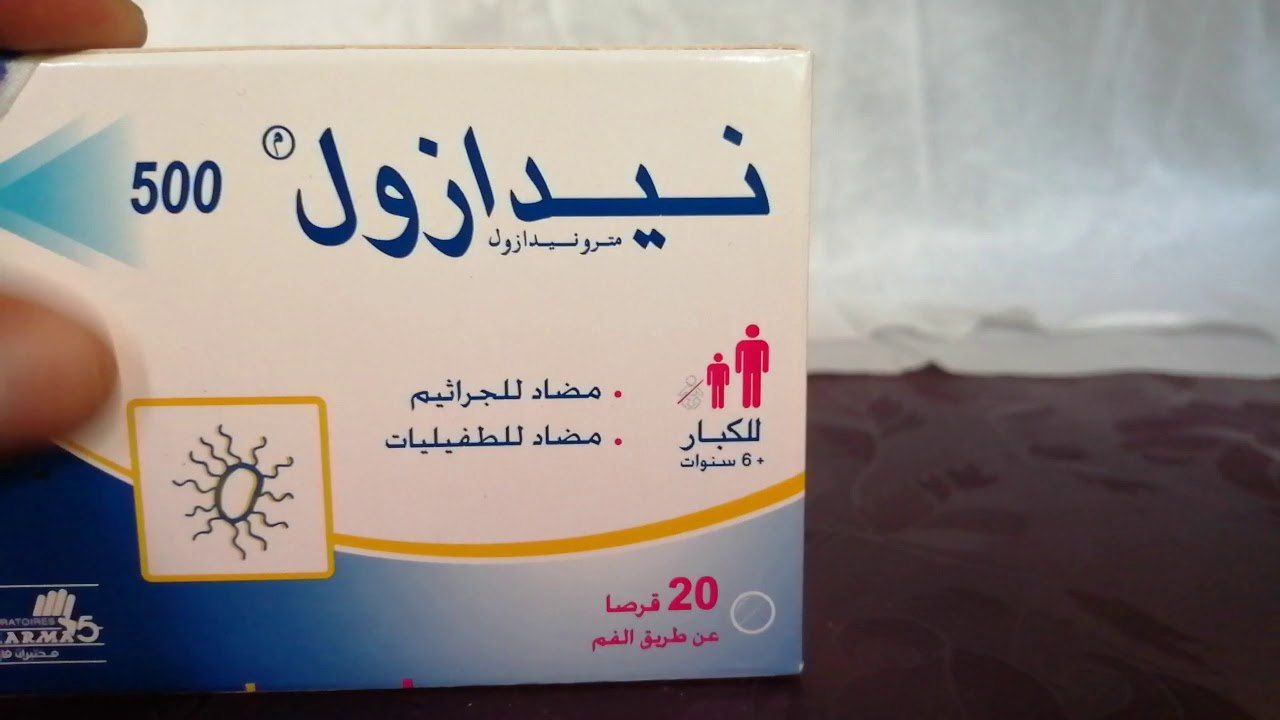Medicine: (0, 38, 826, 706)
